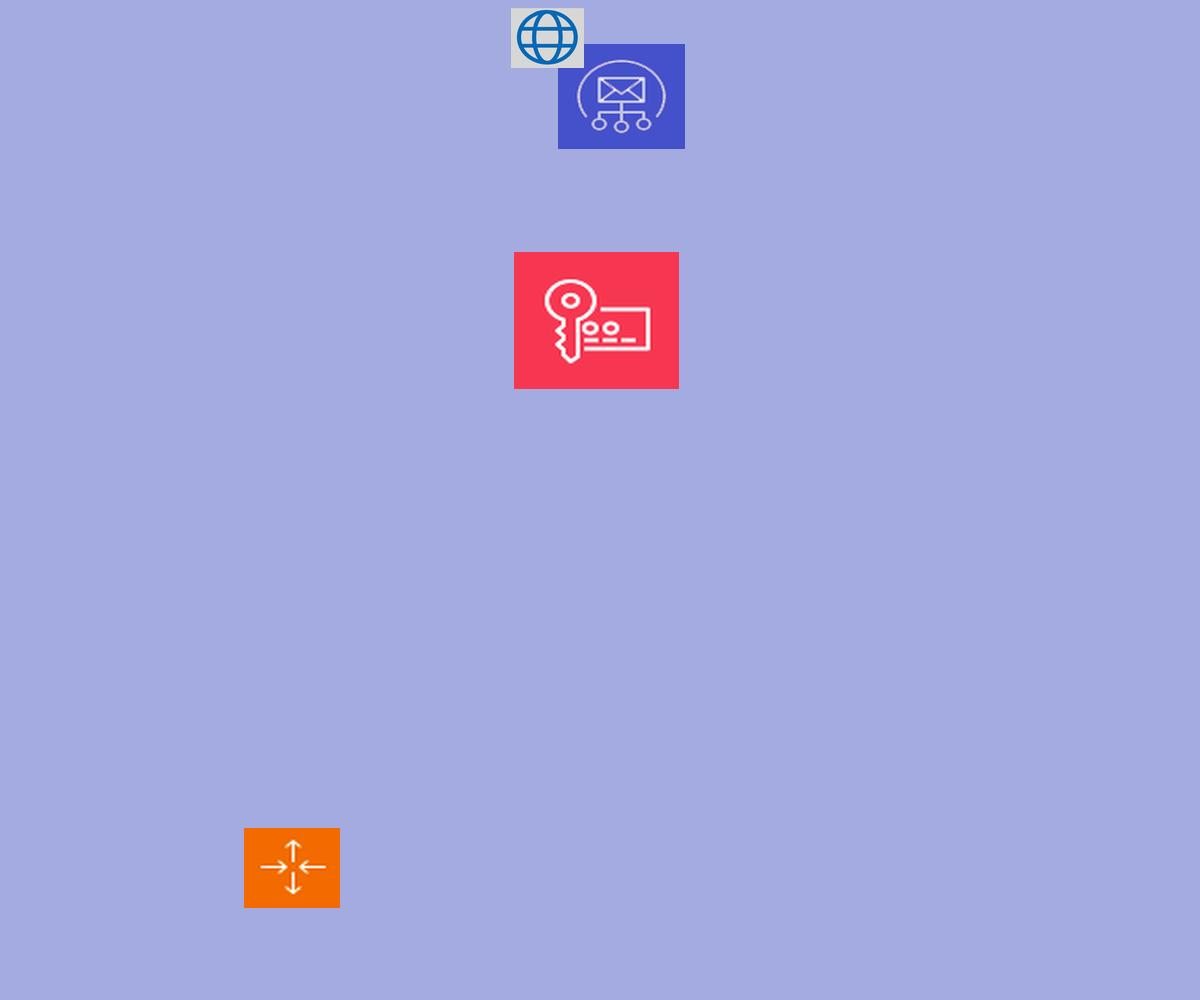AWS-Key-Management-Service: (514, 252, 679, 389)
AWS-Scaling-group: (244, 828, 340, 908)
AWS-Simple-Email-Service: (558, 44, 685, 149)
Azure_http: (511, 8, 584, 68)
